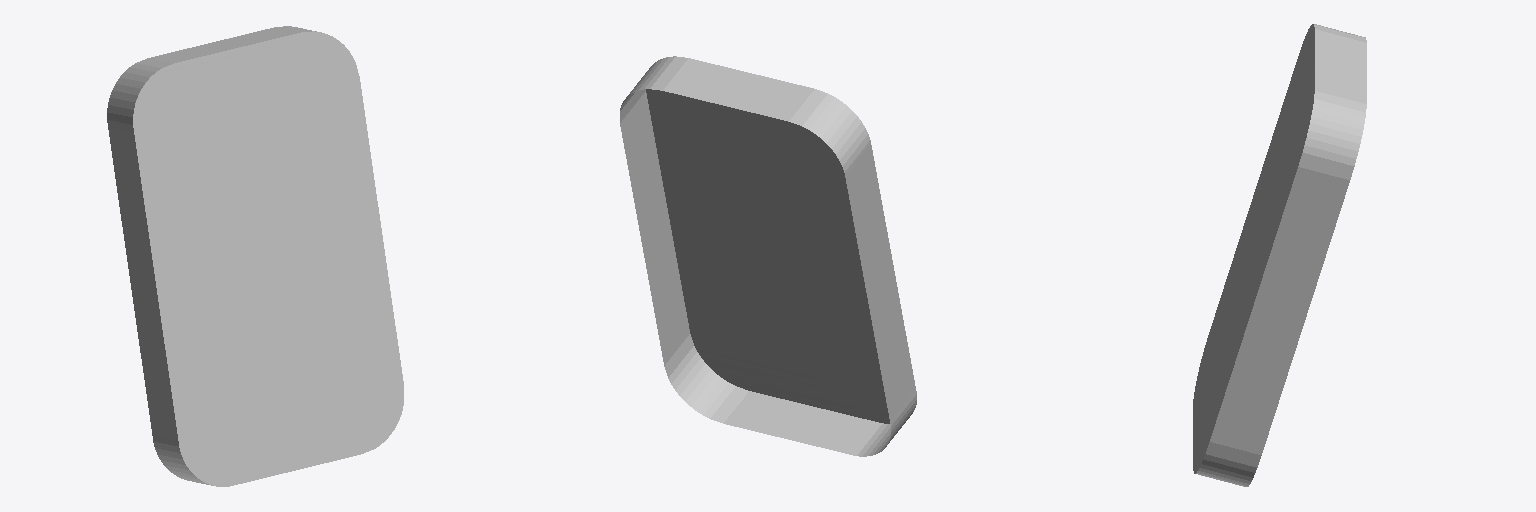
File: original-75.obj
3 views of the same model, side by side, from view 1: azimuth 30°, elevation 25°; view 2: azimuth 150°, elevation 25°; view 3: azimuth 270°, elevation 25° (orthographic).
Visible parts, largest first — view 1: group_38/ID499#ID499; view 2: group_38/ID499#ID499; view 3: group_38/ID499#ID499.
Part boxes in pixels (left/top/right/bottom): group_38/ID499#ID499: left=107, top=26, right=403, bottom=486; group_38/ID499#ID499: left=620, top=56, right=916, bottom=456; group_38/ID499#ID499: left=1193, top=24, right=1366, bottom=486.
Bounding box in the file's own units: 0.0193 × 0.032 × 0.0129.